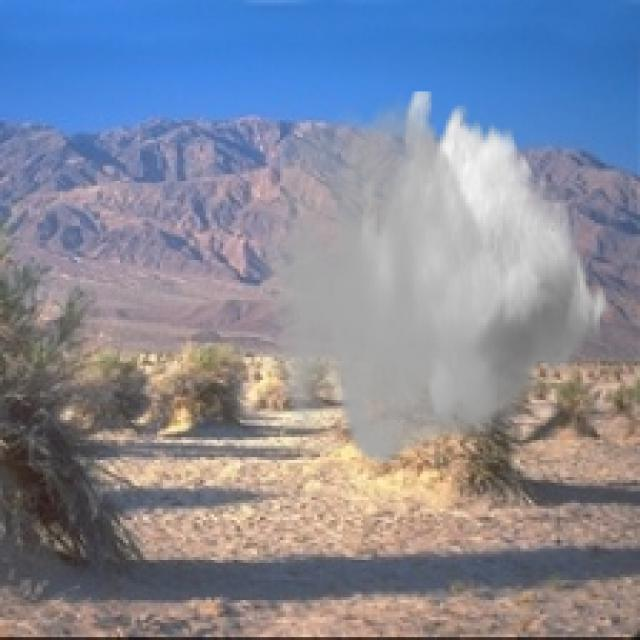smoke: (257, 91, 612, 472)
